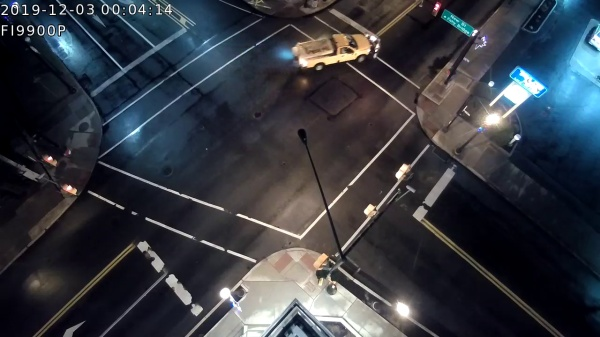car: (288, 33, 383, 73)
